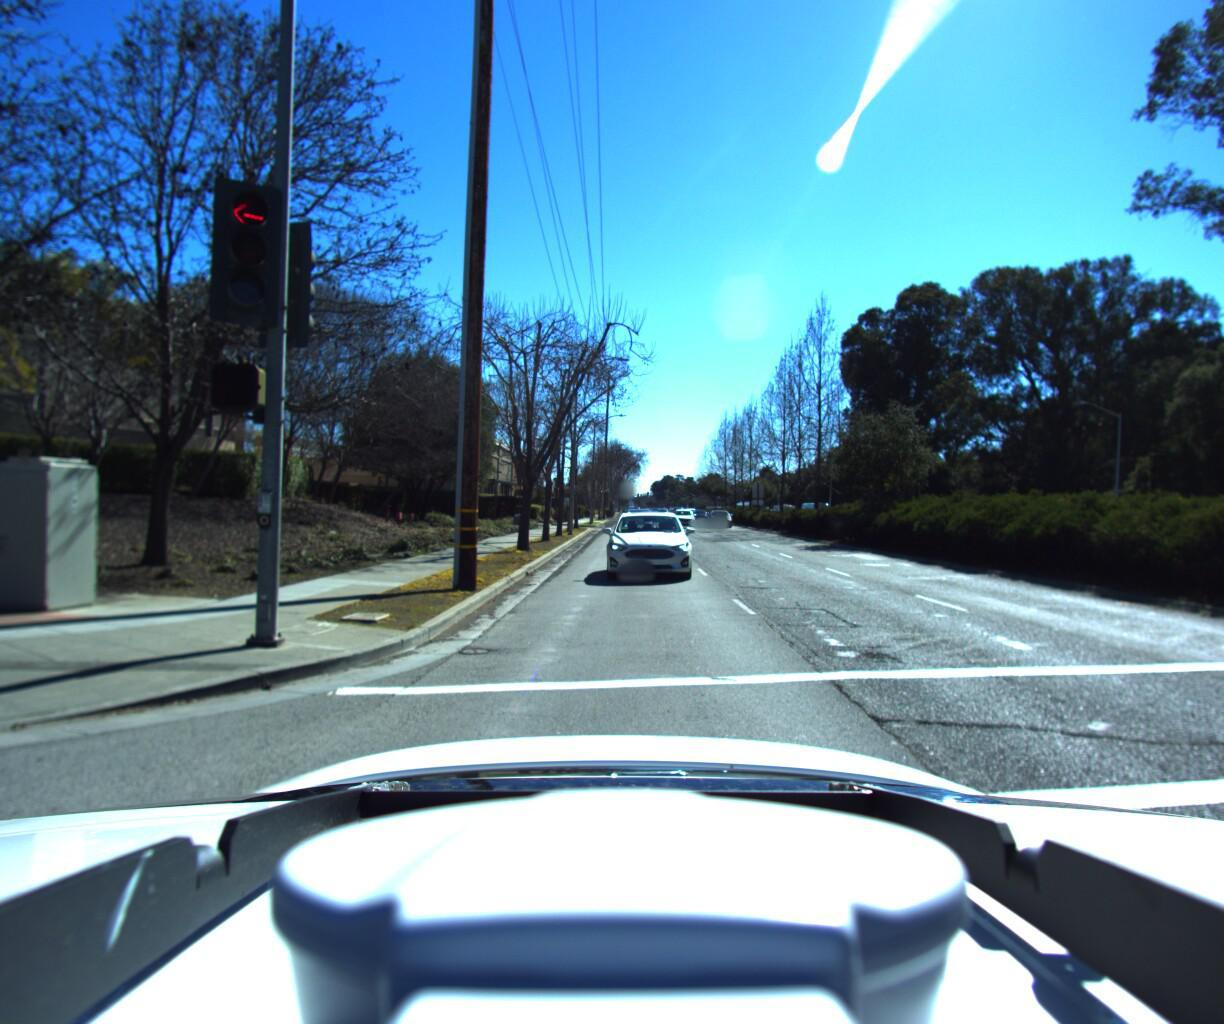car: (603, 507, 696, 584), (667, 505, 697, 527), (705, 506, 735, 527)
